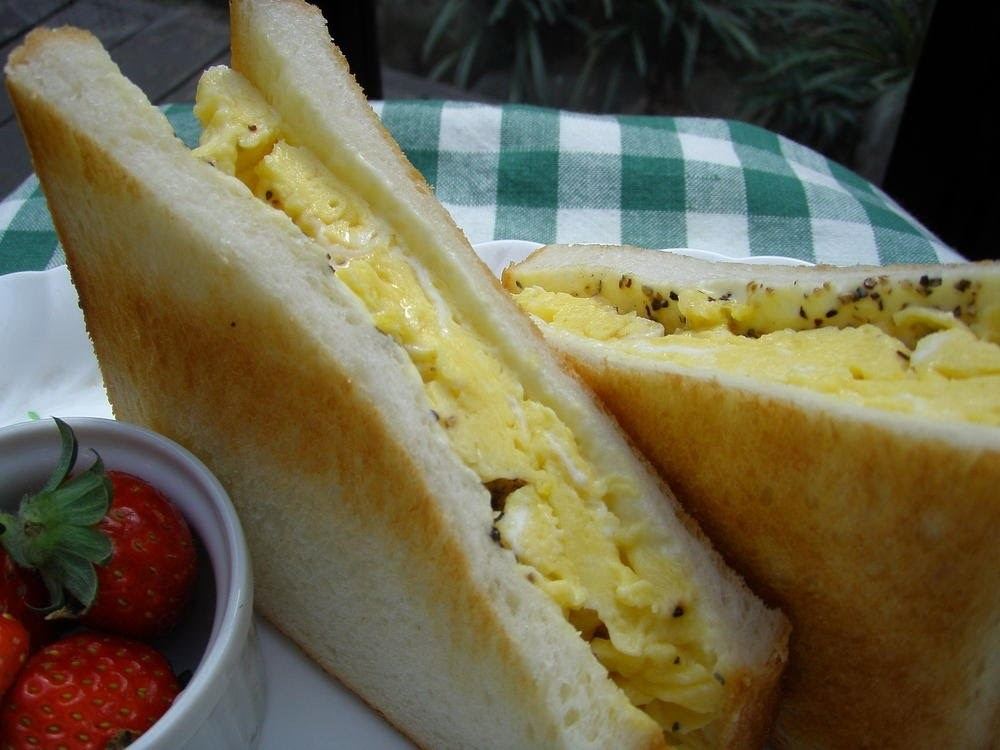background: (0, 391, 308, 750)
